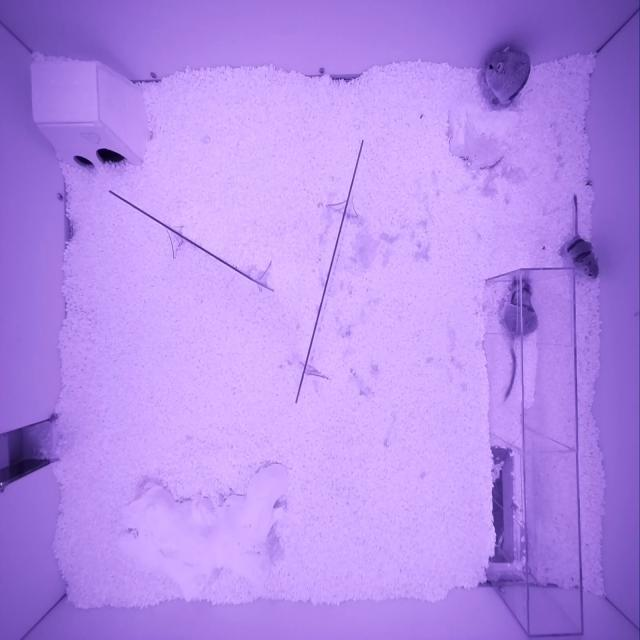adult_back: (486, 45, 530, 104)
adult_front: (499, 282, 538, 336)
pup_h_stripe: (564, 236, 598, 280)
